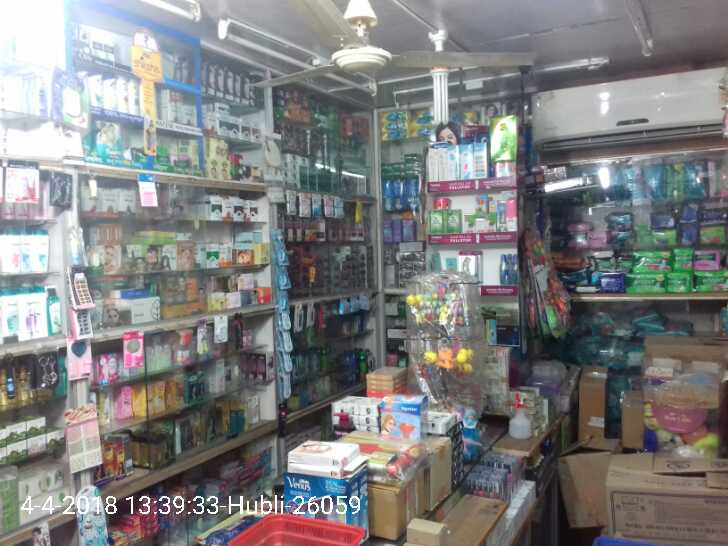venus: (284, 472, 368, 526)
